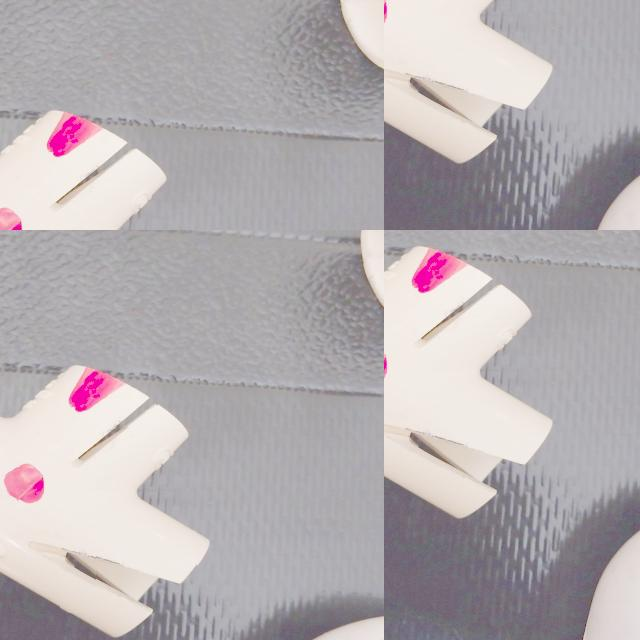Defective: (384, 314, 482, 436), (384, 424, 510, 493), (420, 288, 496, 343), (412, 260, 473, 311), (60, 545, 96, 613), (409, 253, 462, 292), (421, 251, 463, 277)
L Joint: (0, 234, 156, 427), (0, 531, 165, 640), (581, 489, 640, 640)
T Joint: (384, 247, 550, 513)
